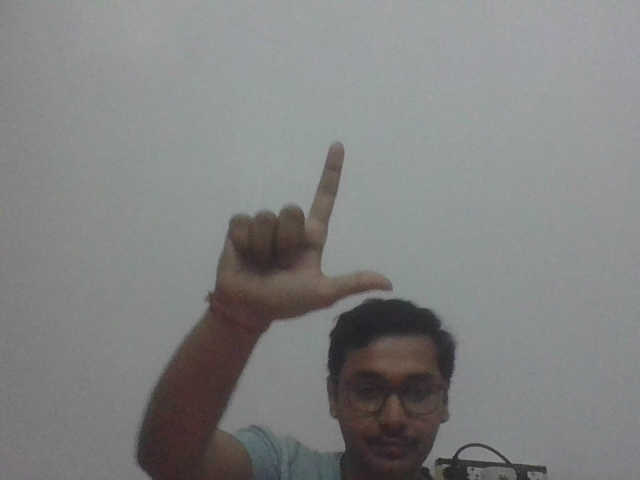L: (215, 131, 405, 304)
